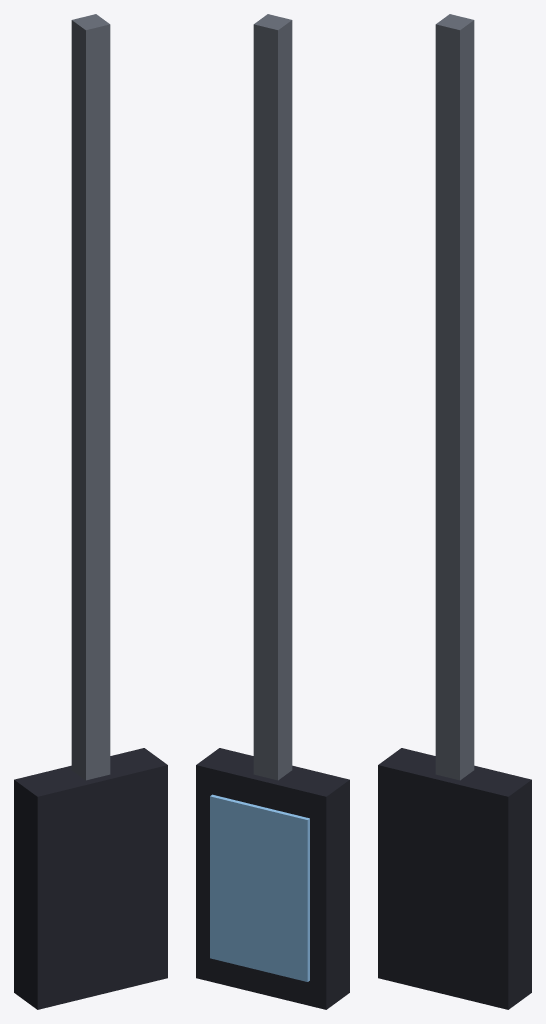
File: selfie_stick.glb
The picture shows the model from 3 angles, left to right: view 1: azimuth 30°, elevation 25°; view 2: azimuth 150°, elevation 25°; view 3: azimuth 330°, elevation 25°; orthographic projection.
Parts seen in each view (by area): view 1: selfie_stick; view 2: selfie_stick; view 3: selfie_stick.
Part boxes in pixels (box(x1,y1,x2,y2)): selfie_stick: box(14, 14, 167, 1009); selfie_stick: box(196, 14, 349, 1009); selfie_stick: box(378, 14, 531, 1009).
Size of the model in its own units: 0.08 by 0.565 by 0.0275.
1 material, 1 textured.
